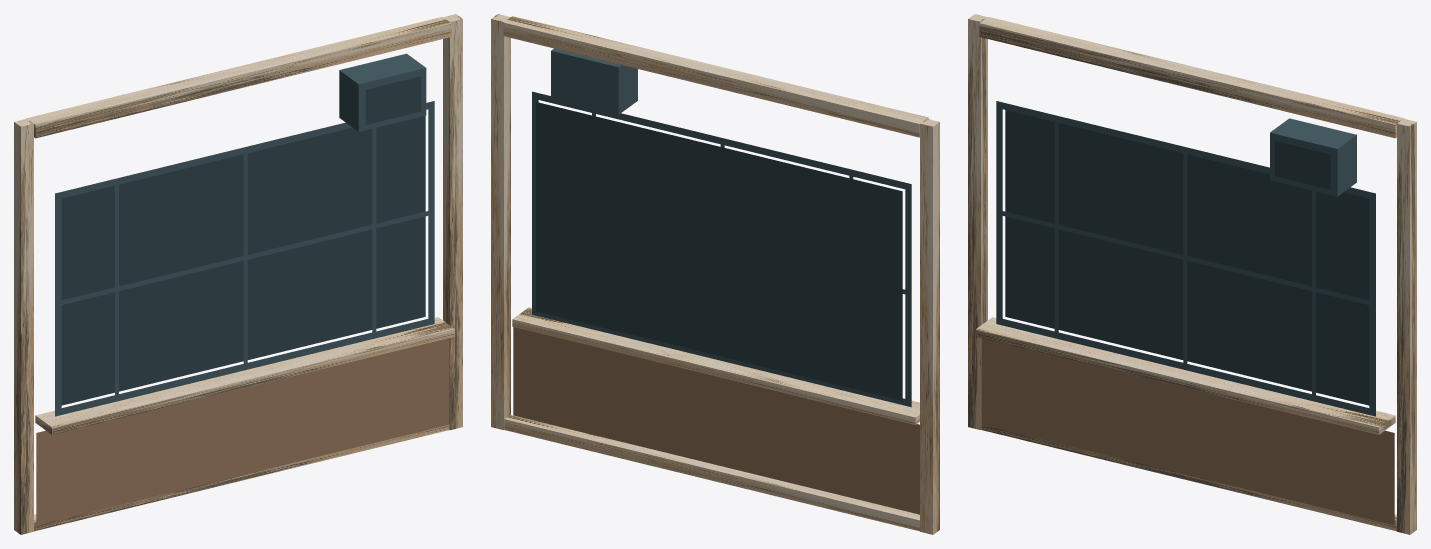
File: facade_workshop_upper.glb
3 renders of one model, left to right at view 1: azimuth 30°, elevation 25°; view 2: azimuth 150°, elevation 25°; view 3: azimuth 330°, elevation 25°, orthographic.
Visible parts, largest first — view 1: lod1_facade_workshop_upper__VVK_dark_glass, lod1_facade_workshop_upper__VVK_masonry, lod1_facade_workshop_upper__VVK_concrete_CC0, lod1_facade_workshop_upper__VVK_painted_steel; view 2: lod1_facade_workshop_upper__VVK_dark_glass, lod1_facade_workshop_upper__VVK_concrete_CC0, lod1_facade_workshop_upper__VVK_masonry, lod1_facade_workshop_upper__VVK_painted_steel; view 3: lod1_facade_workshop_upper__VVK_dark_glass, lod1_facade_workshop_upper__VVK_masonry, lod1_facade_workshop_upper__VVK_concrete_CC0, lod1_facade_workshop_upper__VVK_painted_steel.
Boxes of the visible parts, box(x1,y1,x2,y2) form: lod1_facade_workshop_upper__VVK_dark_glass: box(61, 76, 425, 405); lod1_facade_workshop_upper__VVK_masonry: box(36, 338, 449, 525); lod1_facade_workshop_upper__VVK_concrete_CC0: box(14, 14, 462, 534); lod1_facade_workshop_upper__VVK_painted_steel: box(55, 53, 434, 416); lod1_facade_workshop_upper__VVK_dark_glass: box(536, 102, 902, 400); lod1_facade_workshop_upper__VVK_concrete_CC0: box(491, 14, 939, 534); lod1_facade_workshop_upper__VVK_masonry: box(513, 327, 919, 514); lod1_facade_workshop_upper__VVK_painted_steel: box(532, 48, 911, 407); lod1_facade_workshop_upper__VVK_dark_glass: box(1005, 110, 1369, 405); lod1_facade_workshop_upper__VVK_masonry: box(981, 338, 1394, 525); lod1_facade_workshop_upper__VVK_concrete_CC0: box(968, 14, 1416, 534); lod1_facade_workshop_upper__VVK_painted_steel: box(996, 101, 1375, 416).
Size of the model in its own units: 3.4 by 3 by 0.351.
4 materials, 1 textured.
